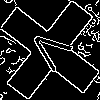V: (25, 25, 81, 79)
